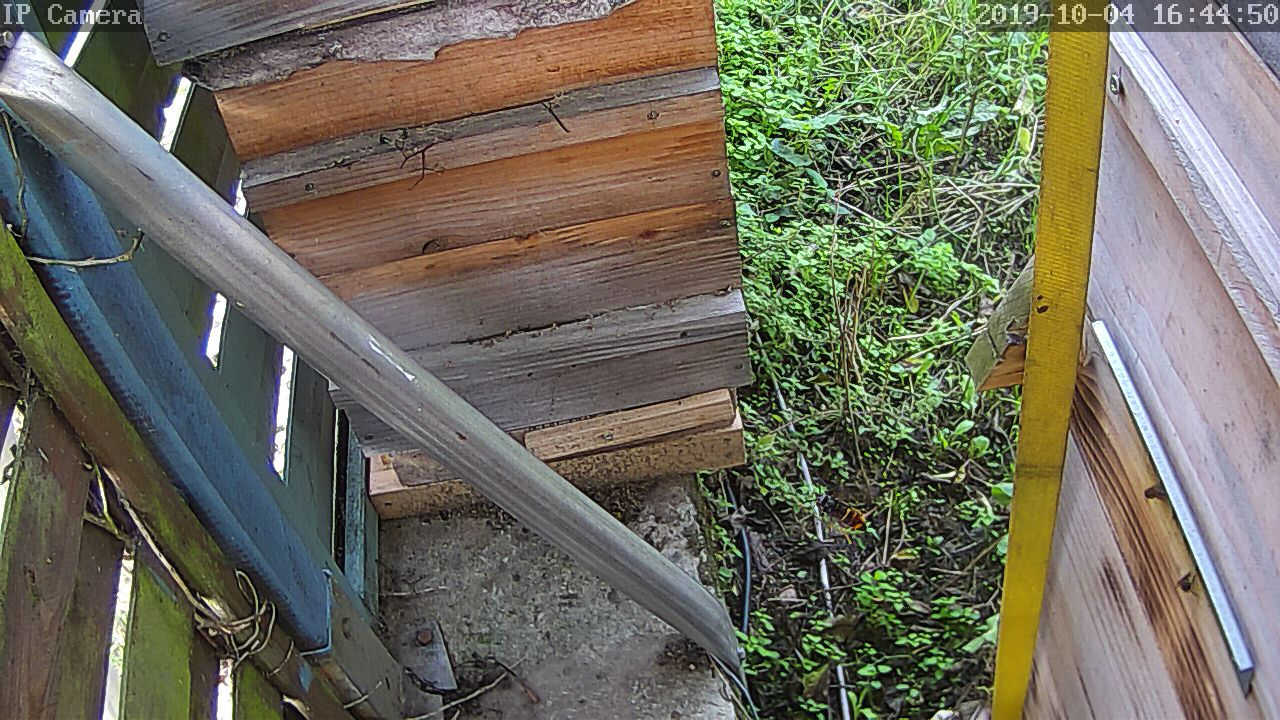bee: (1139, 478, 1169, 508), (1175, 567, 1204, 596)
hornet: (811, 484, 874, 533)
